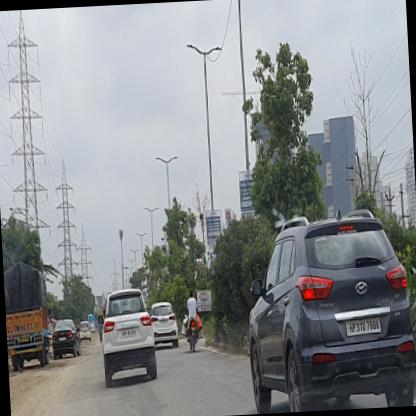car: (242, 206, 415, 414), (95, 286, 158, 386), (150, 301, 180, 351), (51, 317, 81, 358), (78, 320, 92, 342)
motorcycle: (182, 288, 199, 352)
truck: (2, 258, 50, 370)
